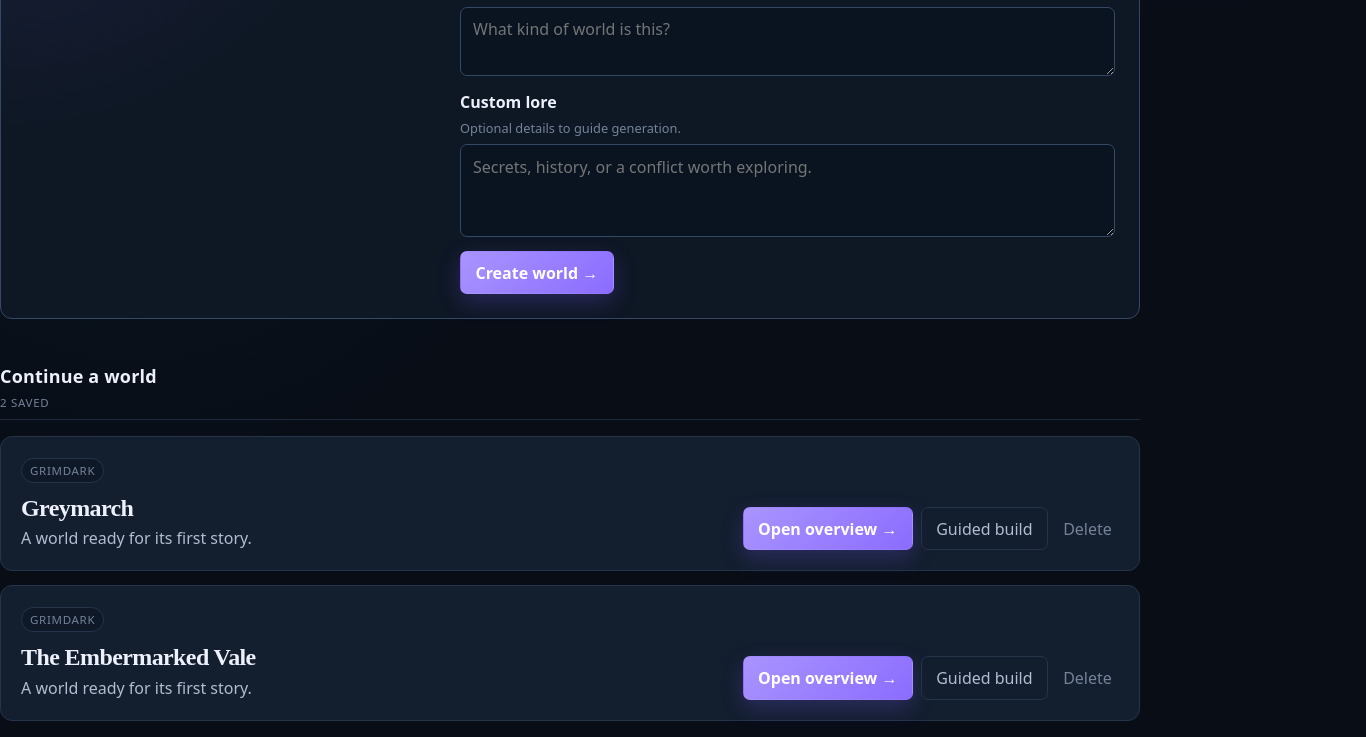
Test: CampaignsView world delete › deletes the world after the DM retypes its title, then refetches the list
(page scrolled)
Click the button "Delete" in the row of "Greymarch".
click(1088, 529)  # box [1056,509,1119,548]
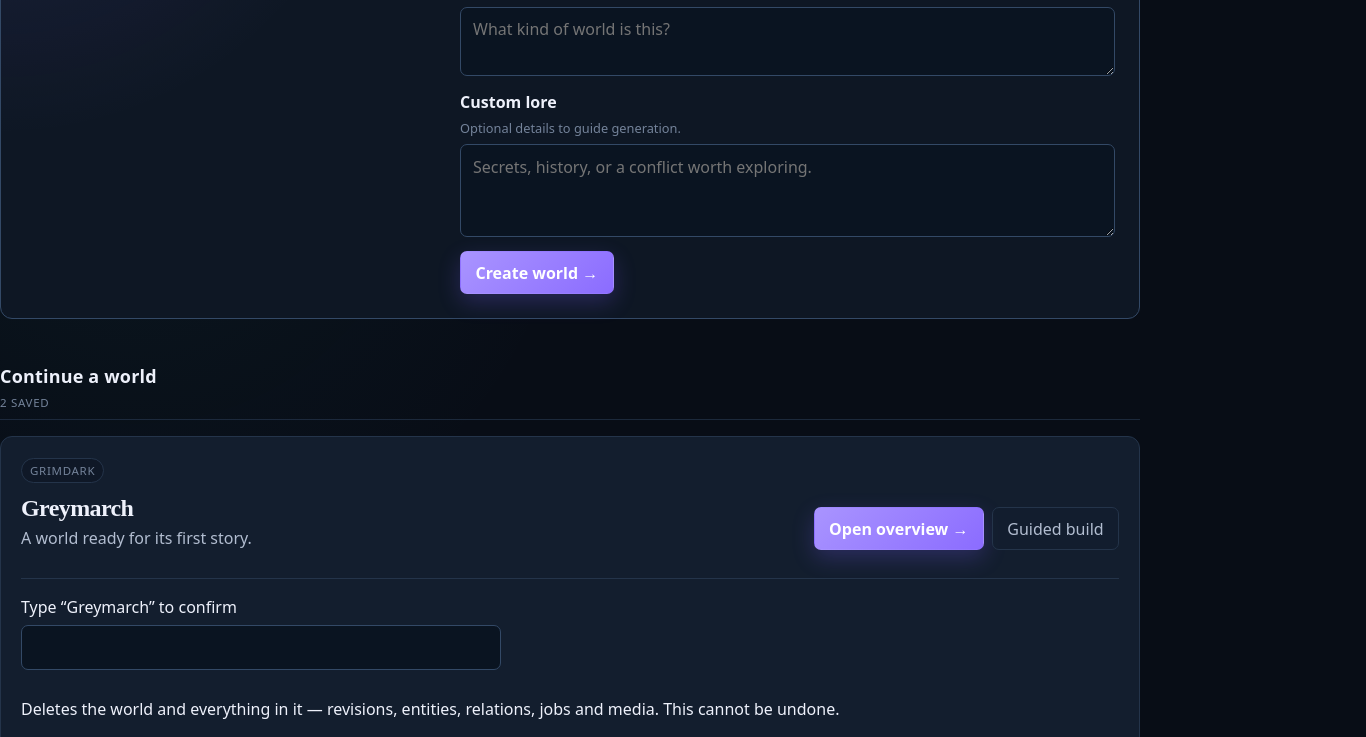
Type "Greymarch" into the field labelled "Type “Greymarch” to confirm".
click(261, 648); type("Greymarch")  # box [21,625,501,670]
(page scrolled)
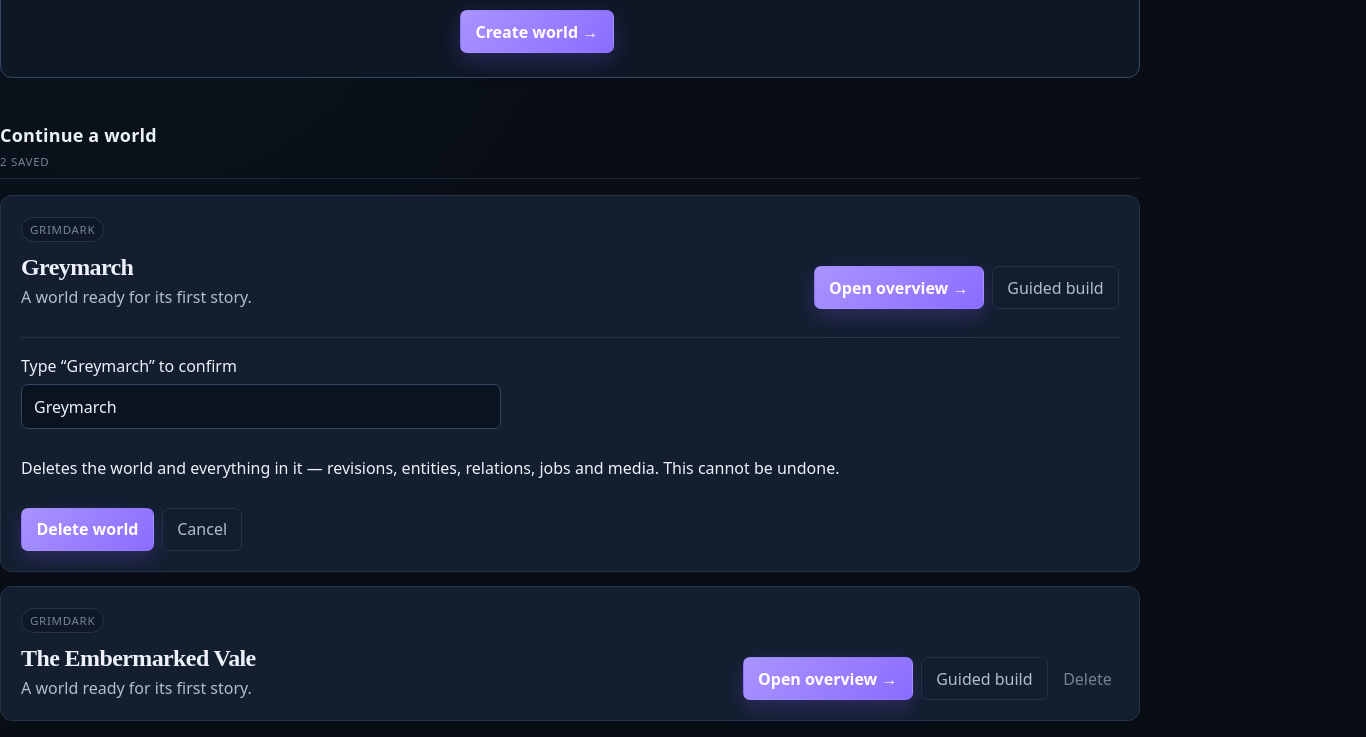
Submit the form with class "delete-world", box [21,337,1119,551]
(page scrolled)
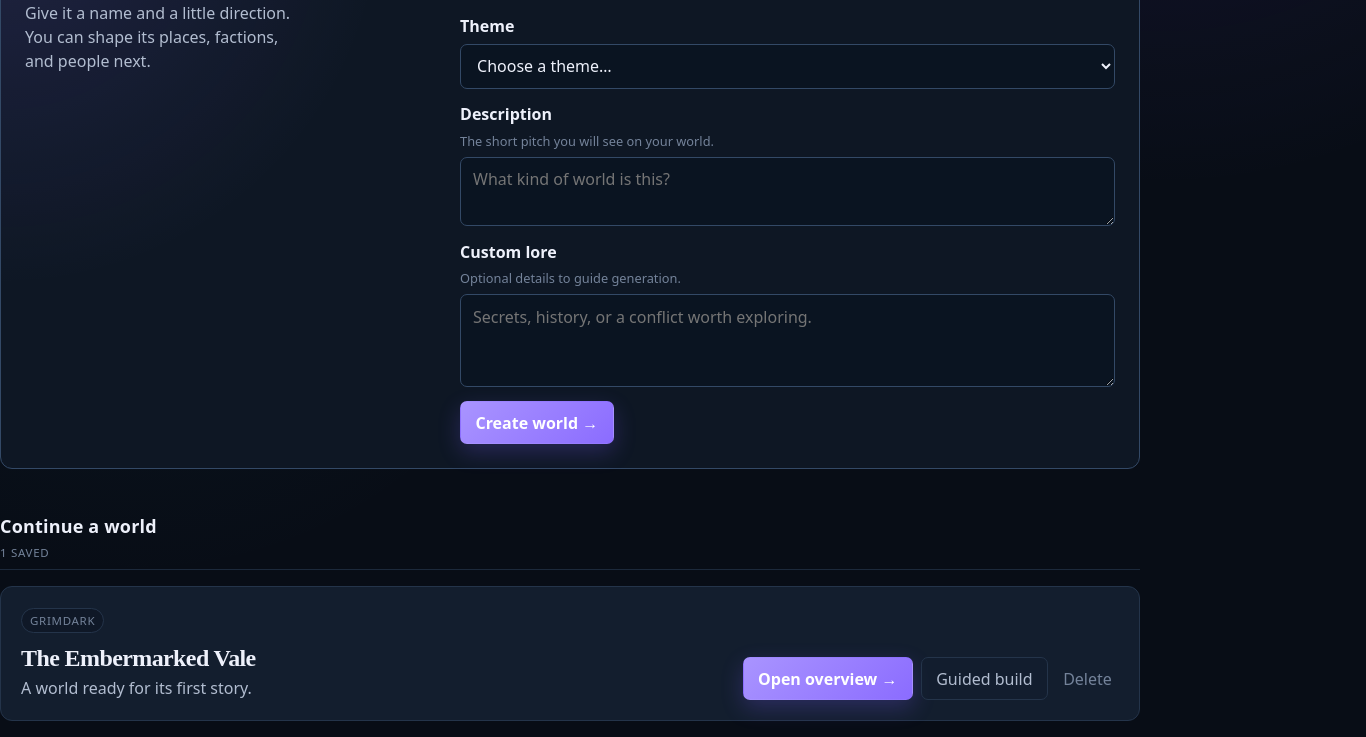
Expected: the text "The Embermarked Vale" is shown, [21,645,256,671]
Expected: the text "Greymarch" is gone
